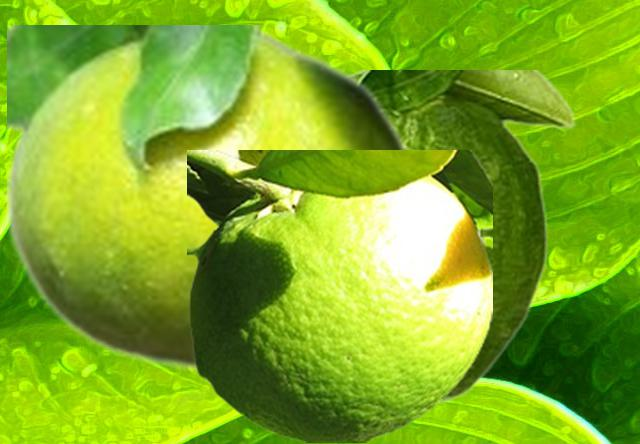dalandan: (7, 25, 415, 379), (187, 150, 491, 441), (349, 70, 575, 408)
